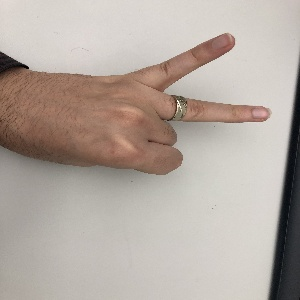hand: (36, 34, 269, 175)
